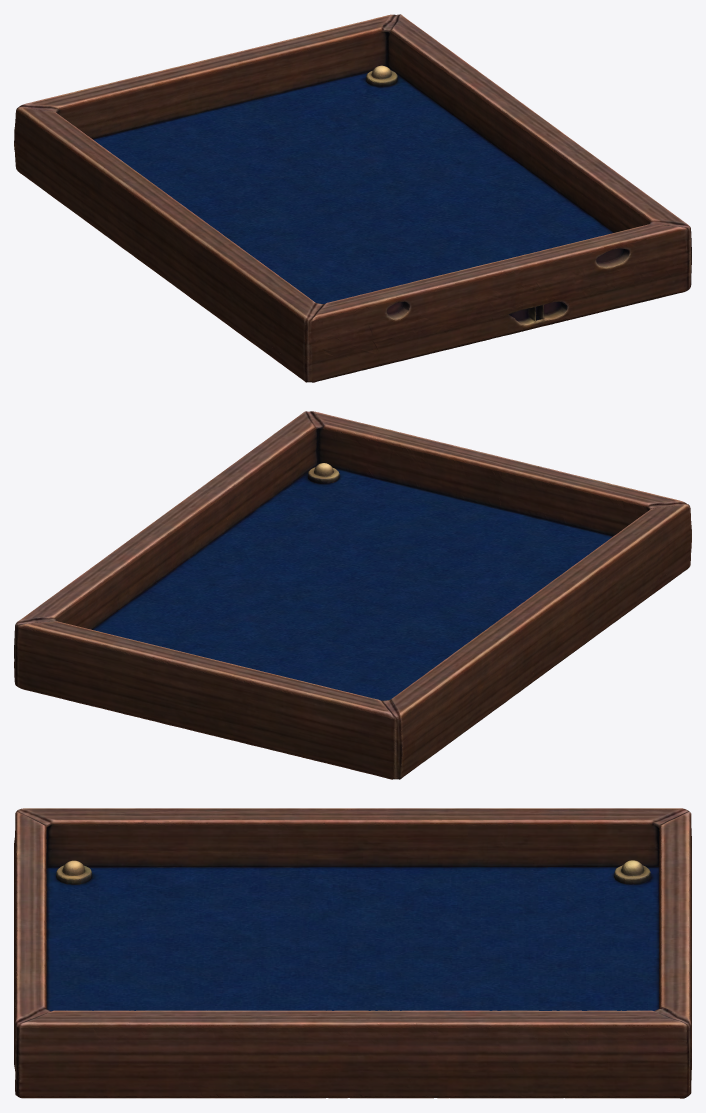
File: delivery-tray.glb
3 views of the same model, one above another, from view 1: azimuth 30°, elevation 25°; view 2: azimuth 150°, elevation 25°; view 3: azimuth 270°, elevation 25° (orthographic). The views are drawn at different scales.
Size of the model in its own units: 0.7633 by 0.1248 by 1.
Materials: 1 (1 with a texture image).
